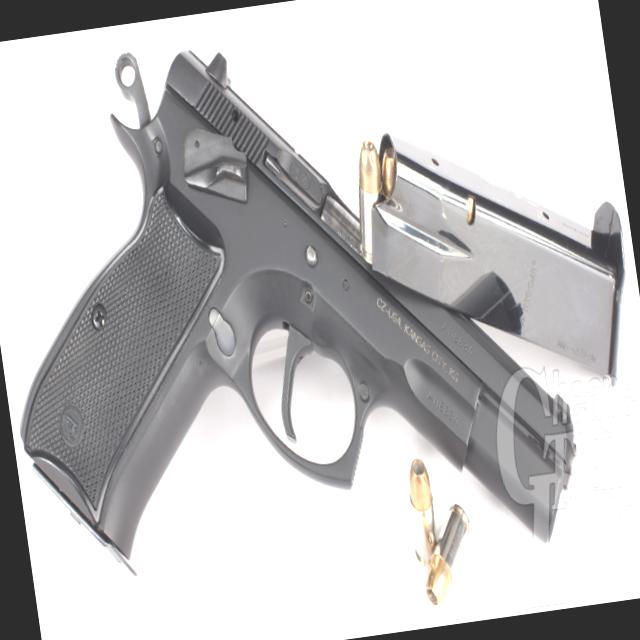handgun: (0, 0, 602, 623)
